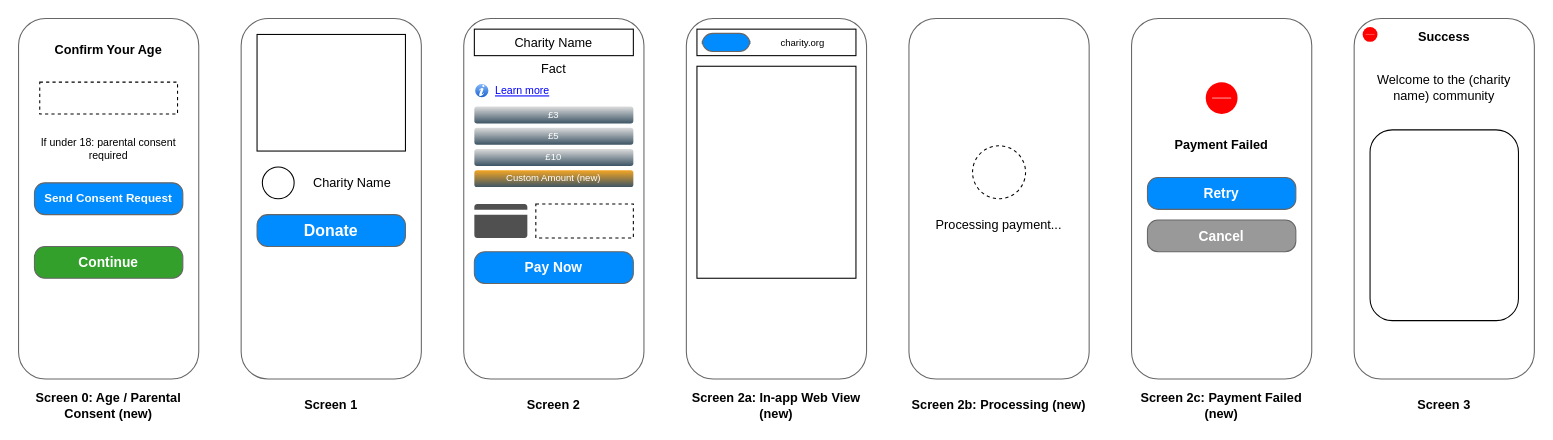
This 1553x440 diagram has some shape labels left out. Here are the shapes that lost their labels. From the top down, the centre of each, then its label:
the point at 725,41: < Back
the point at 108,97: Enter age
the point at 330,92: Photo
the point at 776,171: Charity website content
the point at 584,220: Apple Pay / Google Pay (new)
the point at 1443,225: You and (value) others have donated £(value) today
